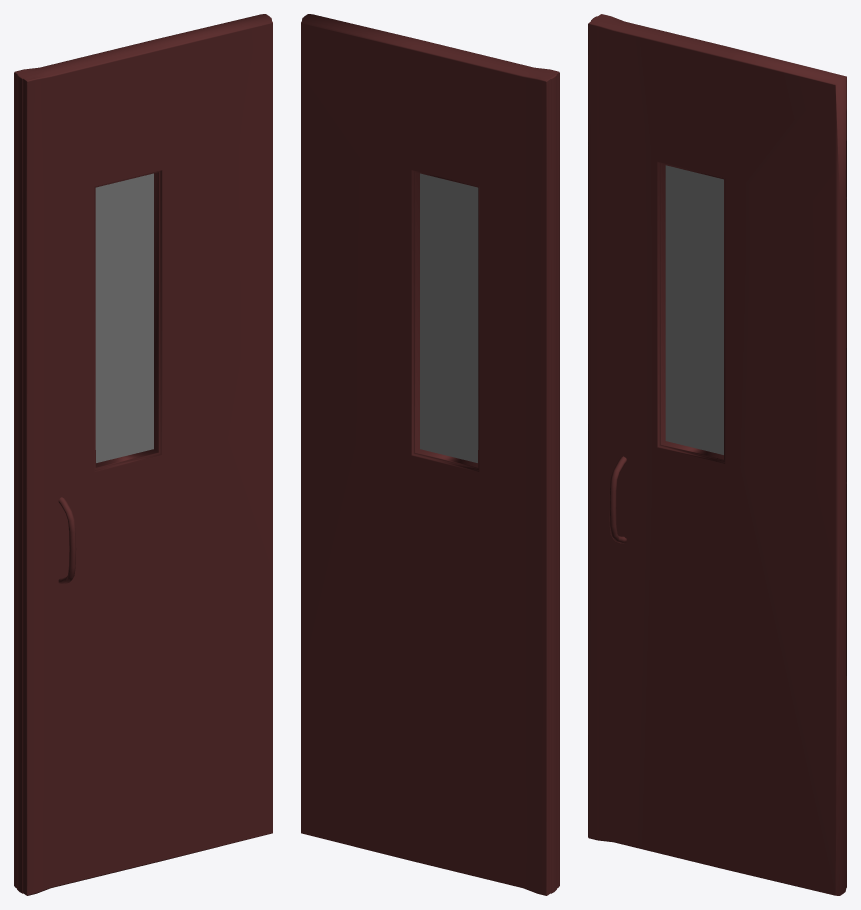
The model's file is Env_Door_03.fbx.
3 views of the same model, side by side, from view 1: azimuth 30°, elevation 25°; view 2: azimuth 150°, elevation 25°; view 3: azimuth 330°, elevation 25° (orthographic).
Visible parts, largest first — view 1: Env_Door_03; view 2: Env_Door_03; view 3: Env_Door_03.
Boxes of the visible parts, bbox=[...] form: Env_Door_03: bbox=[14, 14, 272, 895]; Env_Door_03: bbox=[301, 14, 559, 895]; Env_Door_03: bbox=[588, 14, 846, 895].
Bounding box in the file's own units: 70.8 × 221 × 12.35.
